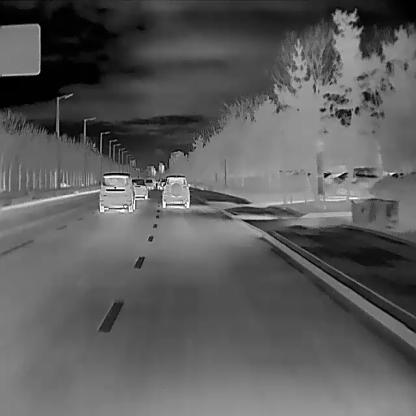car: (99, 172, 136, 212), (162, 174, 190, 208), (132, 176, 147, 199), (144, 178, 152, 189), (160, 178, 166, 189), (157, 178, 163, 189)
